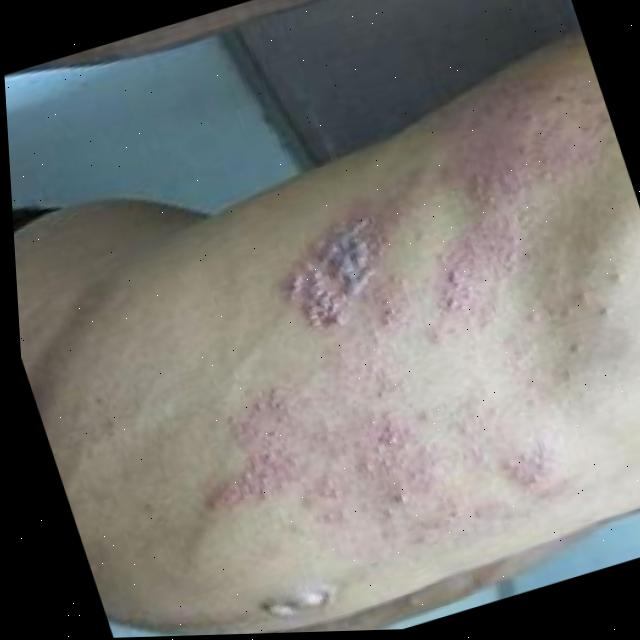Shingles: (104, 64, 640, 607)
